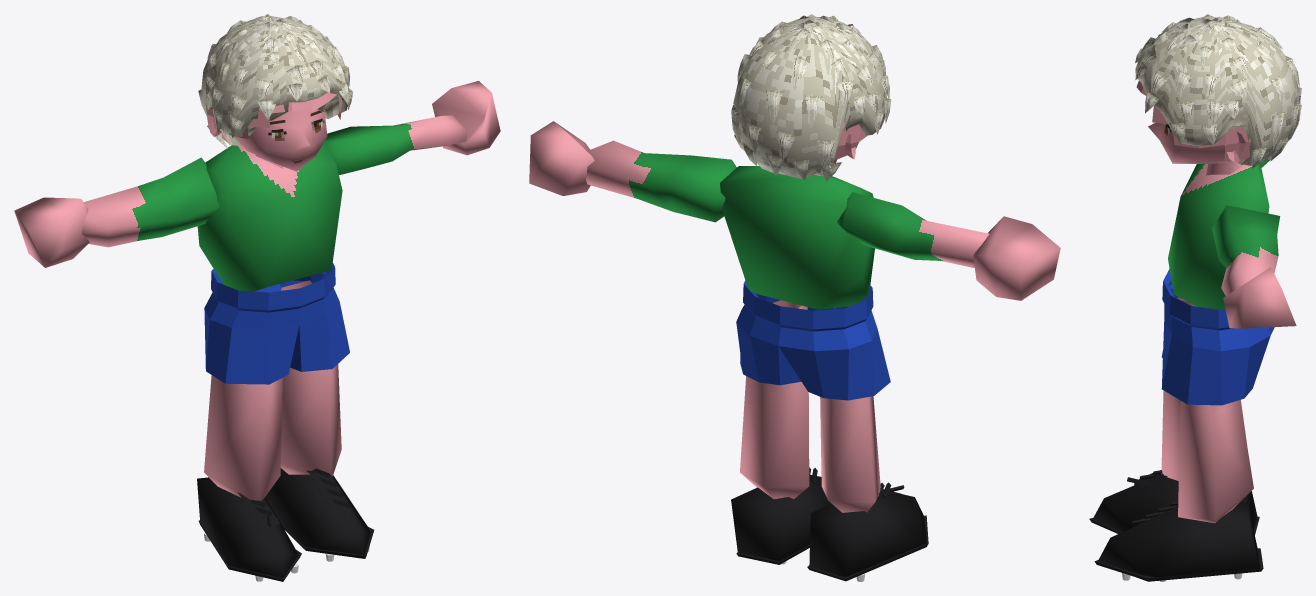
File: 05-crespo-curto_loiro-pintado.glb
3 renders of one model, left to right at view 1: azimuth 30°, elevation 25°; view 2: azimuth 150°, elevation 25°; view 3: azimuth 270°, elevation 25°, orthographic. The views are drawn at different scales.
Parts seen in each view (by area): view 1: Camisa_Tronco, Bermuda, Cabelo, Perna.R, Braco.R, Perna.L, Chuteira.R, Chuteira.L, Braco.L, Mao.R, Cabeca, Mao.L (+2 smaller); view 2: Cabelo, Camisa_Tronco, Bermuda, Perna.L, Braco.L, Chuteira.R, Perna.R, Braco.R, Mao.R, Chuteira.L, Mao.L, Chuteira_Sola.R; view 3: Cabelo, Bermuda, Chuteira.L, Camisa_Tronco, Perna.L, Braco.L, Mao.L, Chuteira.R, Perna.R, Cabeca, Couro_Cabeludo, Chuteira_Sola.L (+3 smaller).
Boxes of the visible parts, <box> form: Camisa_Tronco: <box>197,143,342,291</box>; Bermuda: <box>204,262,349,384</box>; Cabelo: <box>198,14,353,148</box>; Perna.R: <box>204,375,282,505</box>; Braco.R: <box>81,157,219,247</box>; Perna.L: <box>280,280,341,476</box>; Chuteira.R: <box>197,477,300,577</box>; Chuteira.L: <box>265,468,370,555</box>; Braco.L: <box>324,115,467,174</box>; Mao.R: <box>14,197,89,267</box>; Cabeca: <box>234,109,327,171</box>; Mao.L: <box>432,81,500,155</box>; Cabelo: <box>731,14,891,181</box>; Camisa_Tronco: <box>720,166,874,309</box>; Bermuda: <box>736,280,890,400</box>; Perna.L: <box>740,300,809,499</box>; Braco.L: <box>586,140,736,222</box>; Chuteira.R: <box>809,489,926,576</box>; Perna.R: <box>820,396,880,512</box>; Braco.R: <box>837,192,989,267</box>; Mao.R: <box>973,216,1060,300</box>; Chuteira.L: <box>731,475,831,561</box>; Mao.L: <box>529,121,594,195</box>; Chuteira_Sola.R: <box>807,515,928,581</box>; Cabelo: <box>1135,14,1301,168</box>; Bermuda: <box>1161,269,1274,405</box>; Chuteira.L: <box>1098,502,1260,581</box>; Camisa_Tronco: <box>1168,163,1269,309</box>; Perna.L: <box>1178,400,1253,523</box>; Braco.L: <box>1212,205,1280,295</box>; Mao.L: <box>1223,267,1296,328</box>; Chuteira.R: <box>1093,473,1257,531</box>; Perna.R: <box>1161,297,1246,480</box>; Cabeca: <box>1148,123,1238,163</box>; Couro_Cabeludo: <box>1136,81,1250,164</box>; Chuteira_Sola.L: <box>1094,548,1263,581</box>.
Size of the model in its own units: 0.4523 by 0.4597 by 0.1658.
Materials: 3 (3 with a texture image).
